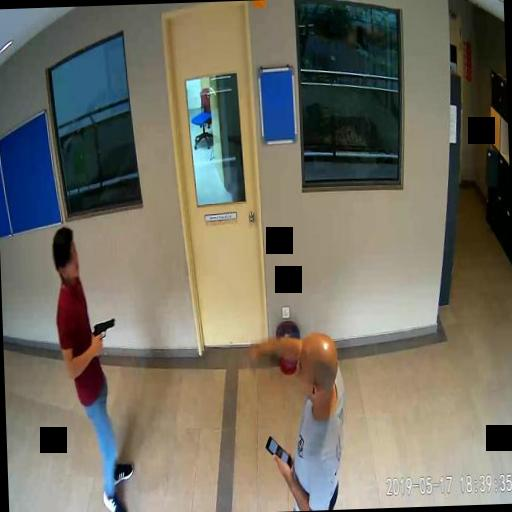Handgun: (90, 315, 114, 350)
